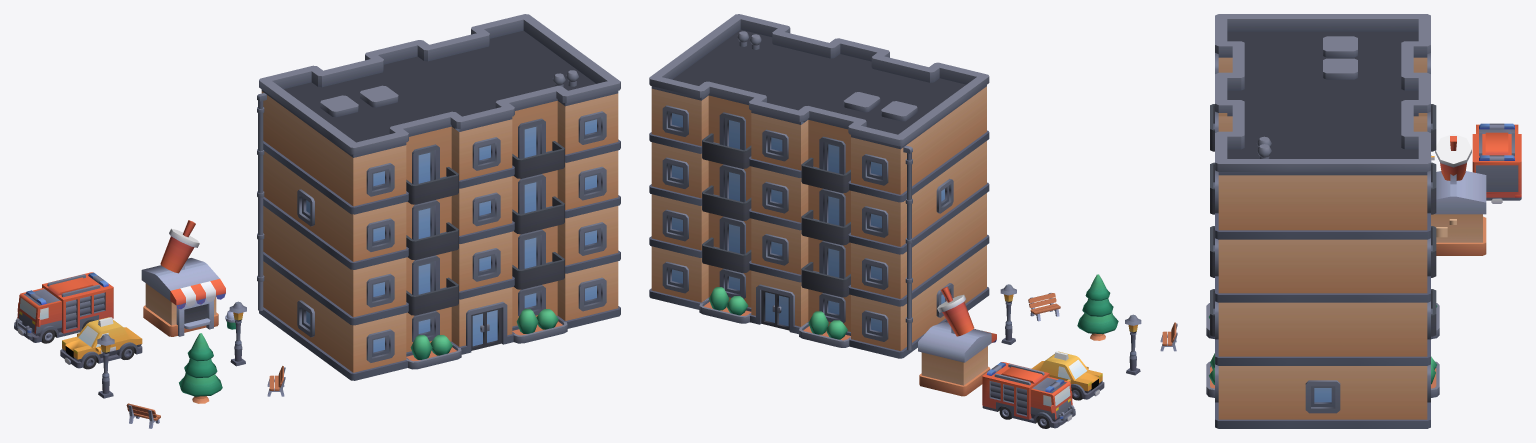
Rendered from HotelMeanoPreview-transformed.glb.
3 renders of one model, left to right at view 1: azimuth 30°, elevation 25°; view 2: azimuth 150°, elevation 25°; view 3: azimuth 270°, elevation 25°, orthographic. The views are drawn at different scales.
Visible parts, largest first — view 1: building-j, wheel-front-right, stall-drinks, lantern; view 2: building-j, wheel-front-right, stall-drinks, lantern; view 3: building-j, stall-drinks, wheel-front-right.
Part boxes in pixels (box(x1,y1,x2,y2)): building-j: box(257, 14, 620, 380); wheel-front-right: box(14, 272, 142, 369); stall-drinks: box(141, 220, 235, 336); lantern: box(97, 301, 285, 428); building-j: box(649, 14, 989, 358); wheel-front-right: box(982, 351, 1104, 428); stall-drinks: box(918, 286, 996, 396); lantern: box(1000, 274, 1177, 375); building-j: box(1206, 14, 1439, 428); stall-drinks: box(1431, 134, 1486, 255); wheel-front-right: box(1431, 123, 1521, 203).
Size of the model in its own units: 14.54 by 6.77 by 7.24.
4 materials, 4 textured.
